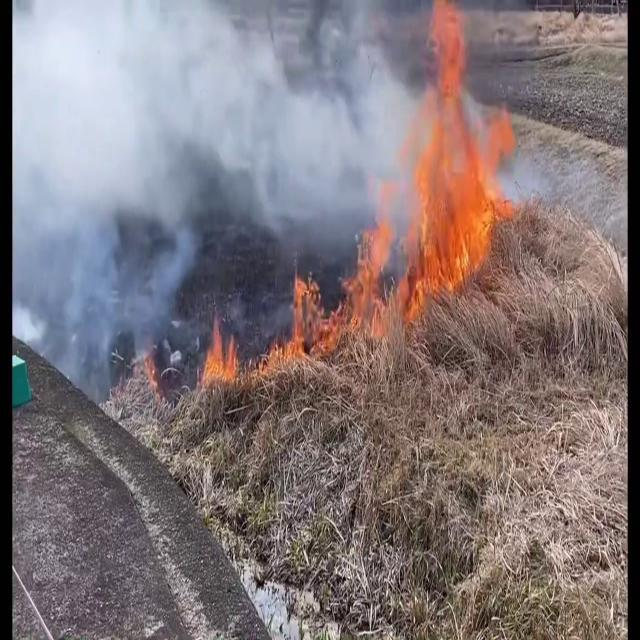Fire: (396, 0, 517, 289), (286, 207, 408, 365), (197, 315, 240, 393)
Smoke: (16, 0, 389, 346)
